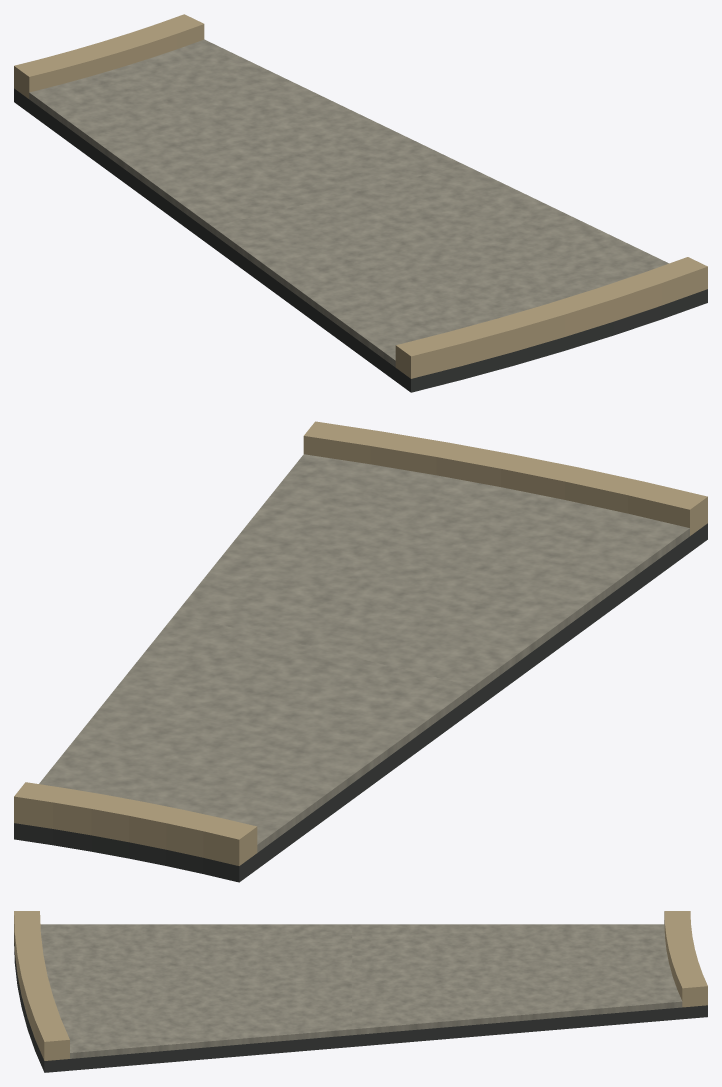
Rendered from road_curve_left_11_25.glb.
The picture shows the model from 3 angles, top to bottom: view 1: azimuth 30°, elevation 25°; view 2: azimuth 150°, elevation 25°; view 3: azimuth 270°, elevation 25°; orthographic projection. The views are drawn at different scales.
Visible parts, largest first — view 1: Concrete curve, Curved curb.001, Curve base, Curved curb; view 2: Concrete curve, Curved curb.001, Curve base, Curved curb; view 3: Concrete curve, Curve base, Curved curb.001, Curved curb.
Boxes of the visible parts, x1=… form: Concrete curve: x1=29, y1=39, x2=668, y2=367; Curved curb.001: x1=395, y1=257, x2=707, y2=378; Curve base: x1=14, y1=88, x2=707, y2=392; Curved curb: x1=14, y1=14, x2=204, y2=98; Concrete curve: x1=39, y1=454, x2=689, y2=852; Curved curb.001: x1=303, y1=421, x2=707, y2=535; Curve base: x1=14, y1=523, x2=707, y2=882; Curved curb: x1=14, y1=782, x2=257, y2=865; Concrete curve: x1=40, y1=924, x2=682, y2=1058; Curve base: x1=14, y1=935, x2=707, y2=1072; Curved curb.001: x1=14, y1=911, x2=69, y2=1060; Curved curb: x1=664, y1=911, x2=707, y2=1007.
Size of the model in its own units: 381 by 42 by 854.
Materials: 3 (1 with a texture image).
